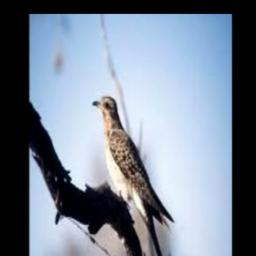Cuckoo: (93, 96, 174, 256)
